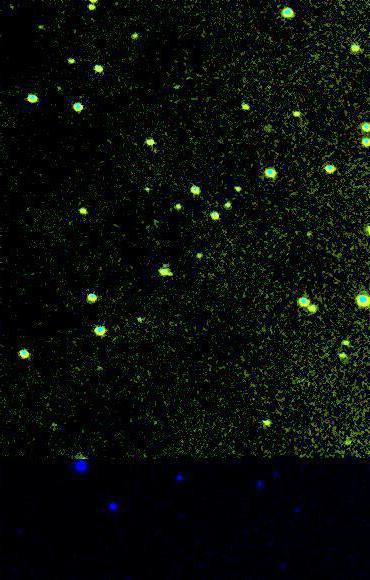star: (297, 291, 327, 321)
